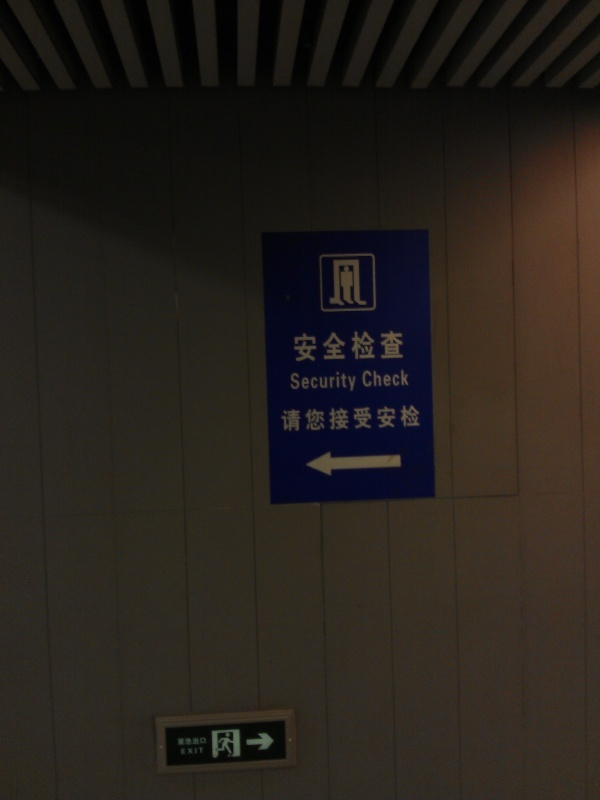text: (305, 330, 320, 363), (321, 330, 336, 363), (337, 330, 352, 363), (353, 330, 368, 363), (369, 330, 384, 363), (385, 330, 400, 363), (289, 404, 304, 433), (305, 404, 320, 433), (321, 404, 336, 433), (337, 404, 352, 433), (353, 404, 368, 433), (369, 404, 384, 433), (385, 404, 400, 433), (401, 404, 416, 433), (289, 371, 304, 396), (305, 371, 320, 396), (321, 371, 336, 396), (337, 371, 352, 396), (293, 330, 304, 363), (369, 370, 384, 389), (385, 370, 400, 389), (280, 404, 288, 433), (401, 370, 410, 389), (177, 736, 192, 746), (417, 404, 422, 433), (193, 736, 207, 746), (401, 330, 405, 363), (353, 371, 358, 396), (362, 370, 368, 389), (180, 747, 192, 755), (193, 747, 205, 755)
